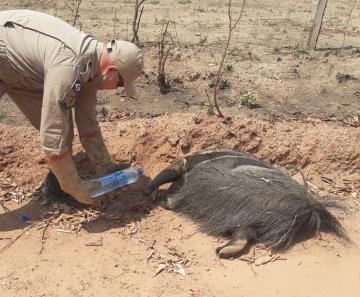TamanduaBandeira: (142, 147, 353, 262)
